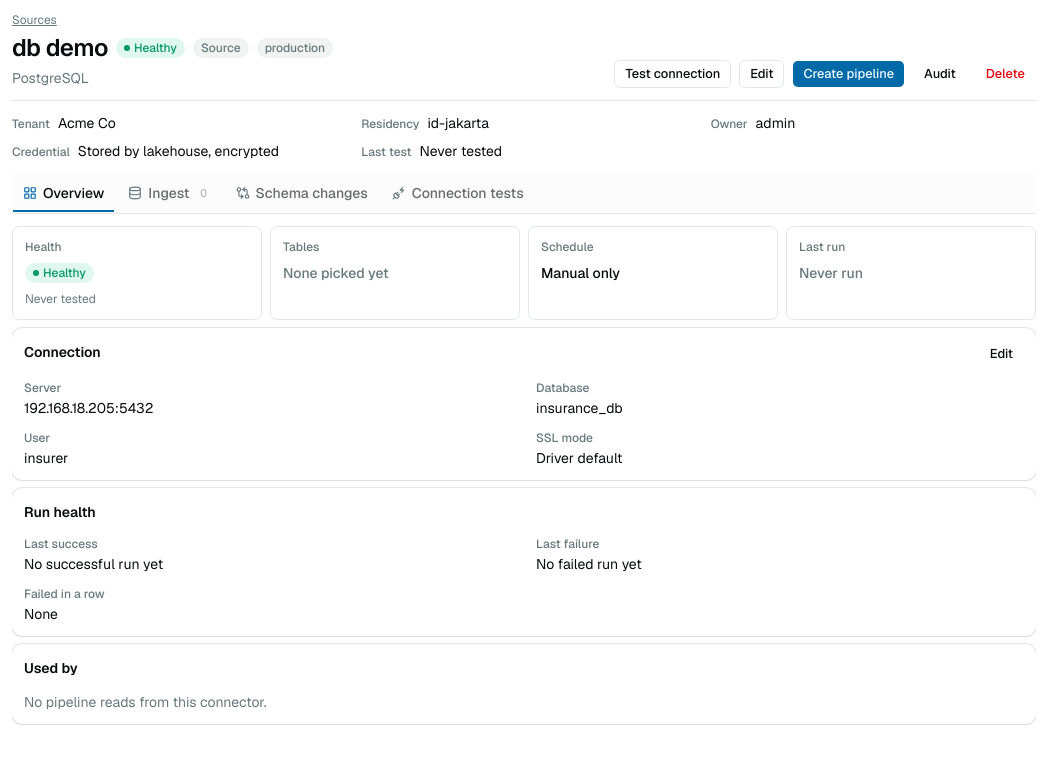
it: ConnectorDetailPage › says plainly when the connector type cannot be tested
Click the button "Test connection": {"x": 673, "y": 74} [614,60,731,88]
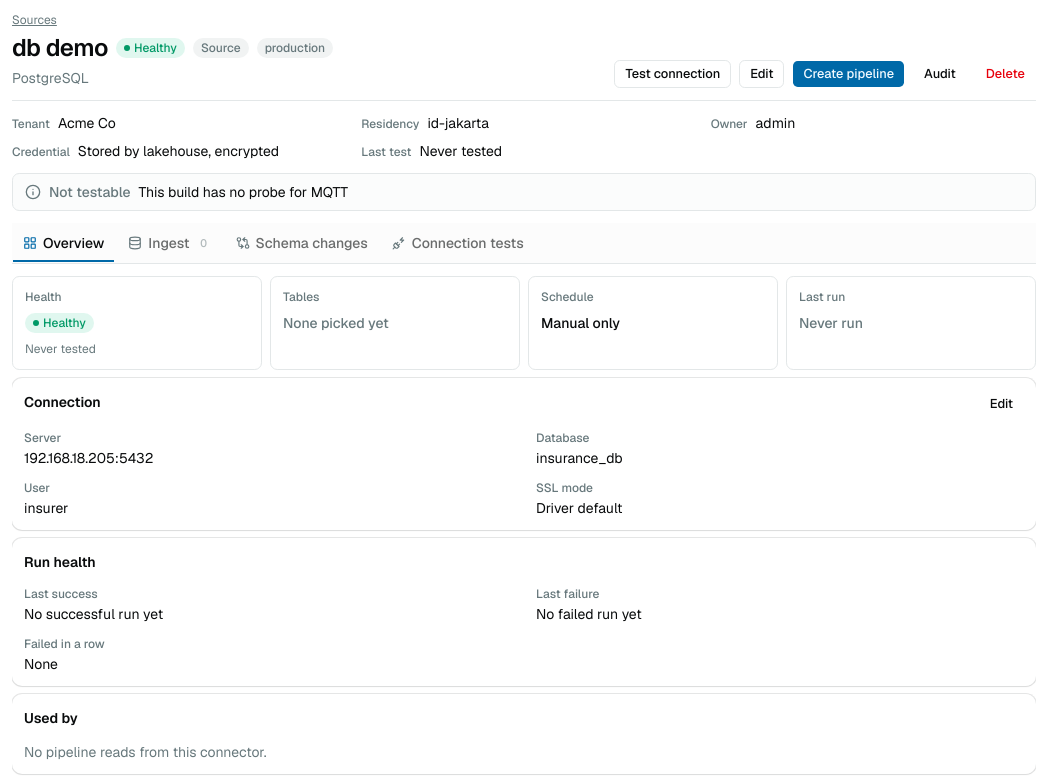
Check: the text "Not testable" is shown, box [49,183,131,201]
Check: the text "This build has no probe for MQTT" is shown, box [139,183,348,201]
